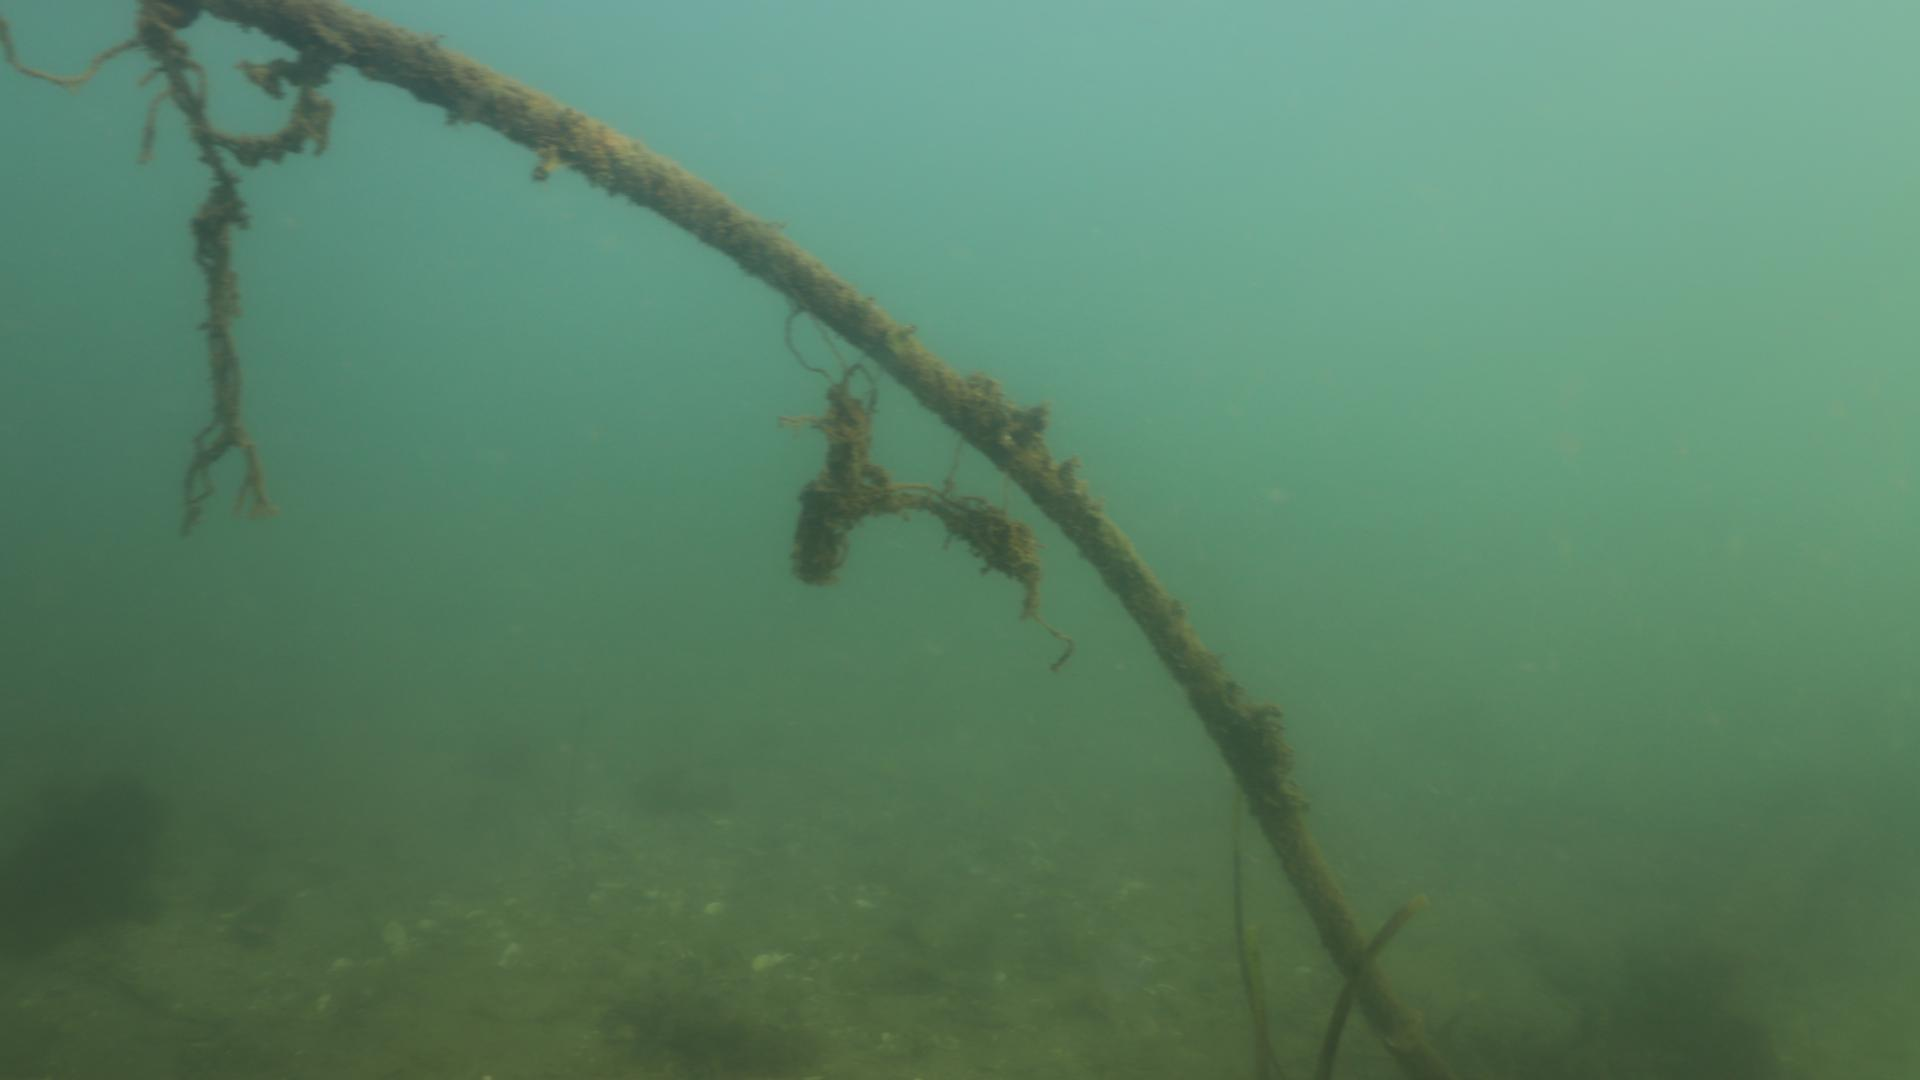rope: (127, 0, 1458, 1073)
